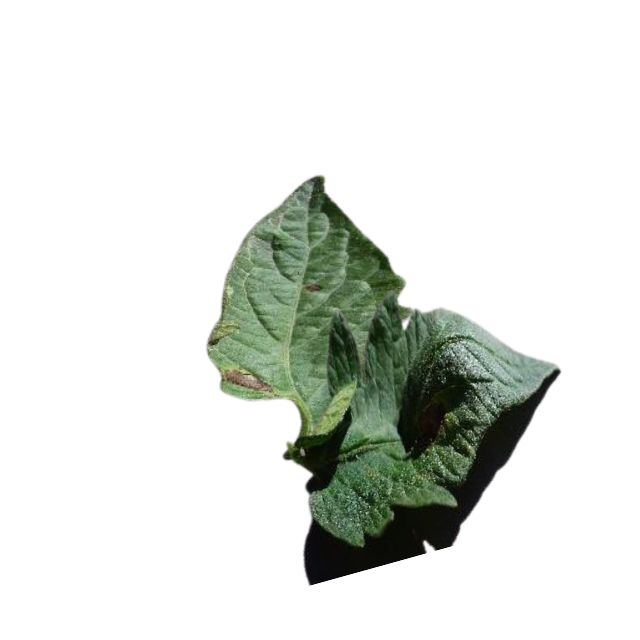Early_blight: (220, 362, 275, 389), (304, 282, 324, 294)
